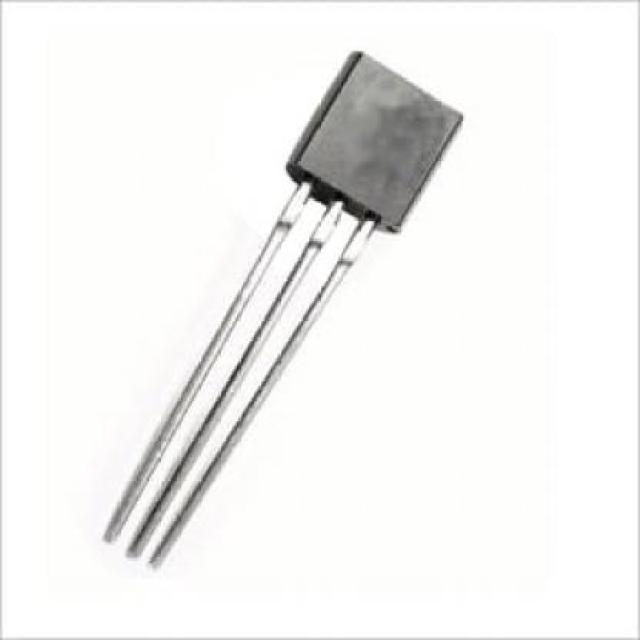Transistor: (286, 52, 465, 235)
